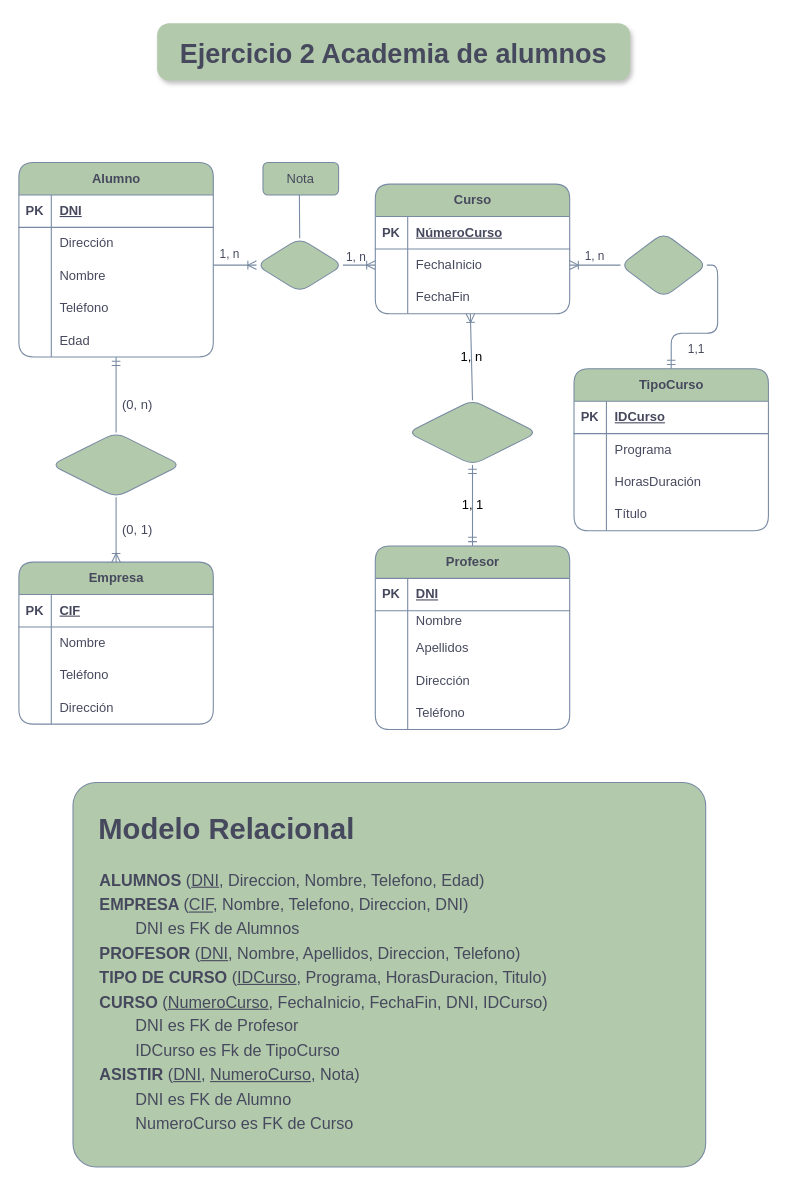
Some shapes in this 787 by 1186 pixel diagram are drawn without their labels. Here are the shapes that lost their labels. From the top down, the centre of each, then its label:
At (299,264): "ASISTIR".
At (663,265): "TENER".
At (472,432): "IMPARTIR".
At (115,464): "TRABAJAR".
